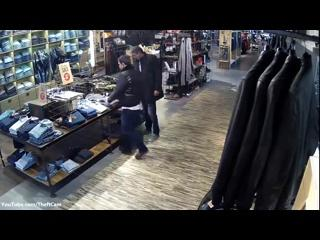Normal: (198, 45, 320, 208), (104, 55, 150, 160), (131, 46, 164, 142)
